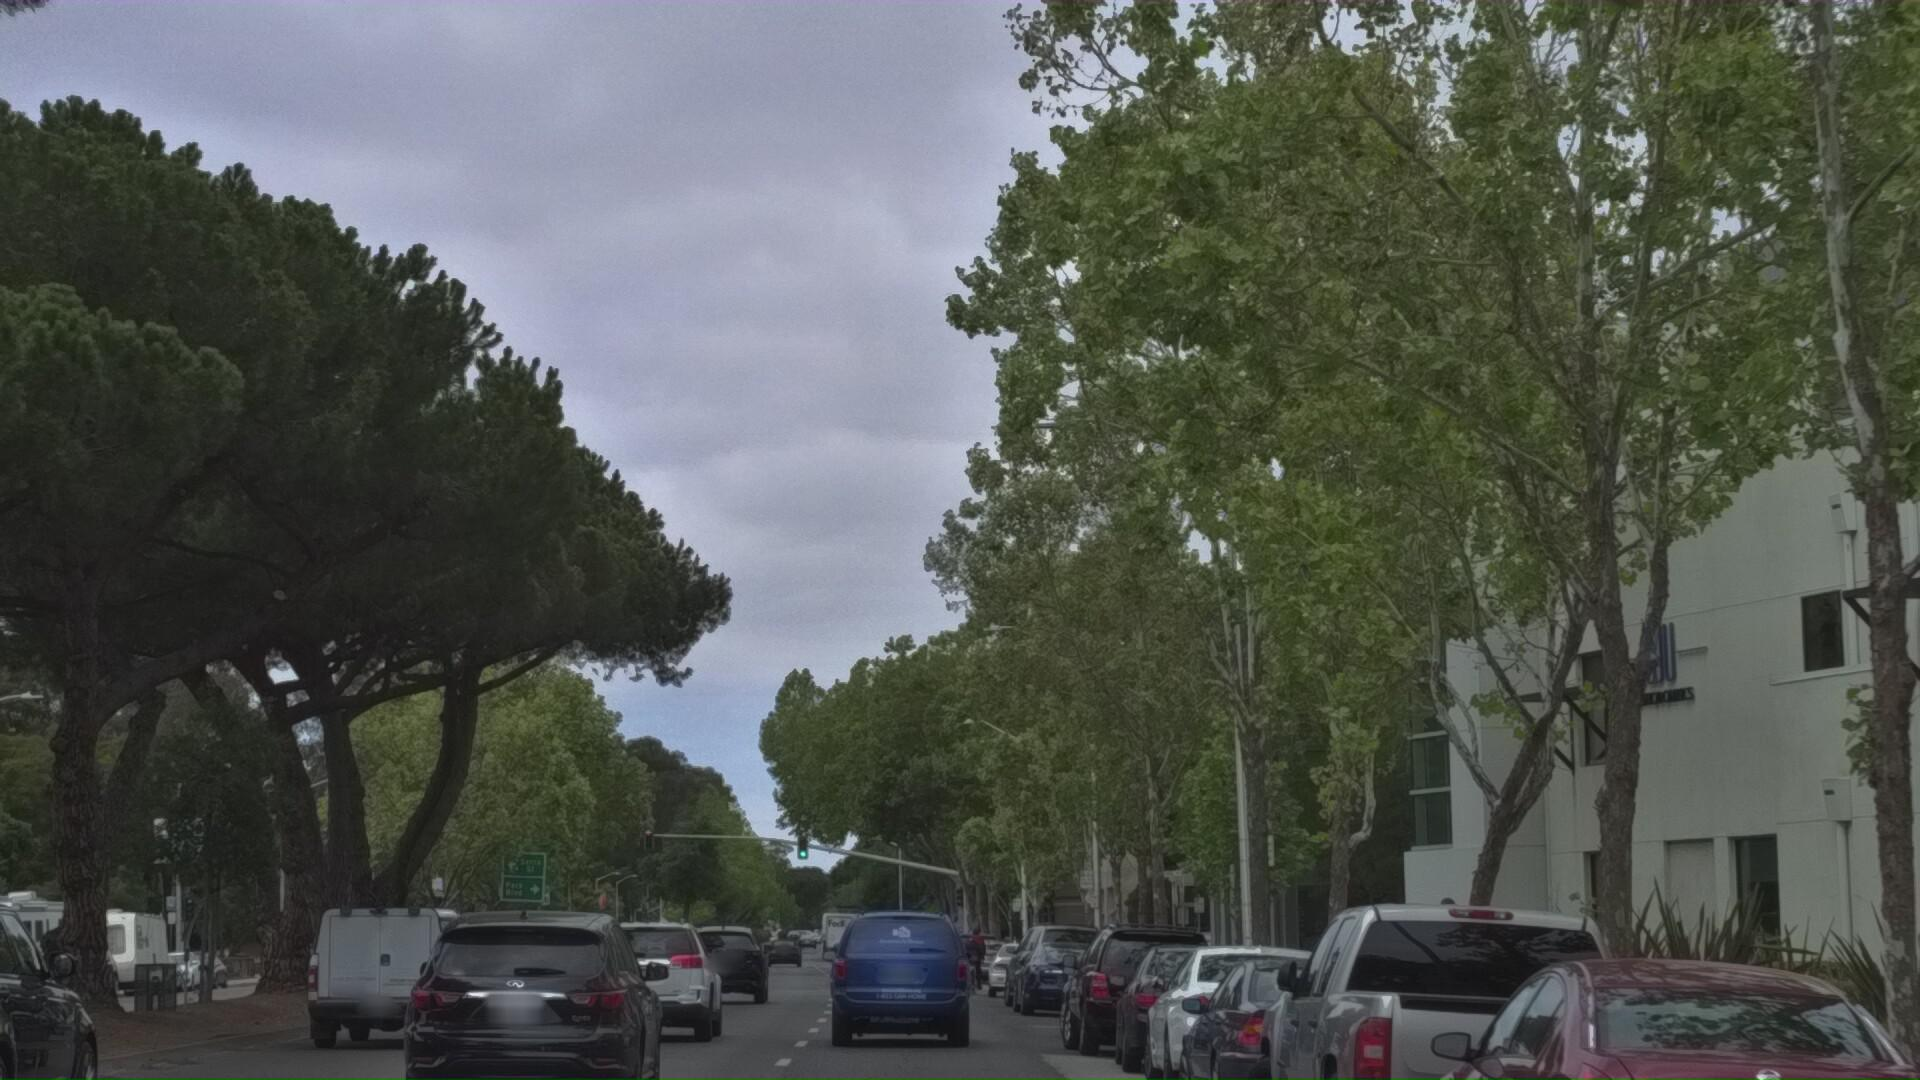car: (1222, 916, 1745, 1080), (1403, 971, 1920, 1080), (384, 938, 694, 1080), (301, 939, 502, 1080), (1182, 978, 1458, 1080), (1147, 969, 1381, 1080), (1067, 945, 1255, 1080), (578, 942, 752, 1080), (828, 949, 996, 1080), (0, 915, 132, 1080), (1121, 968, 1304, 1080), (1015, 949, 1131, 1047), (1021, 967, 1138, 1054), (703, 963, 804, 1062)
